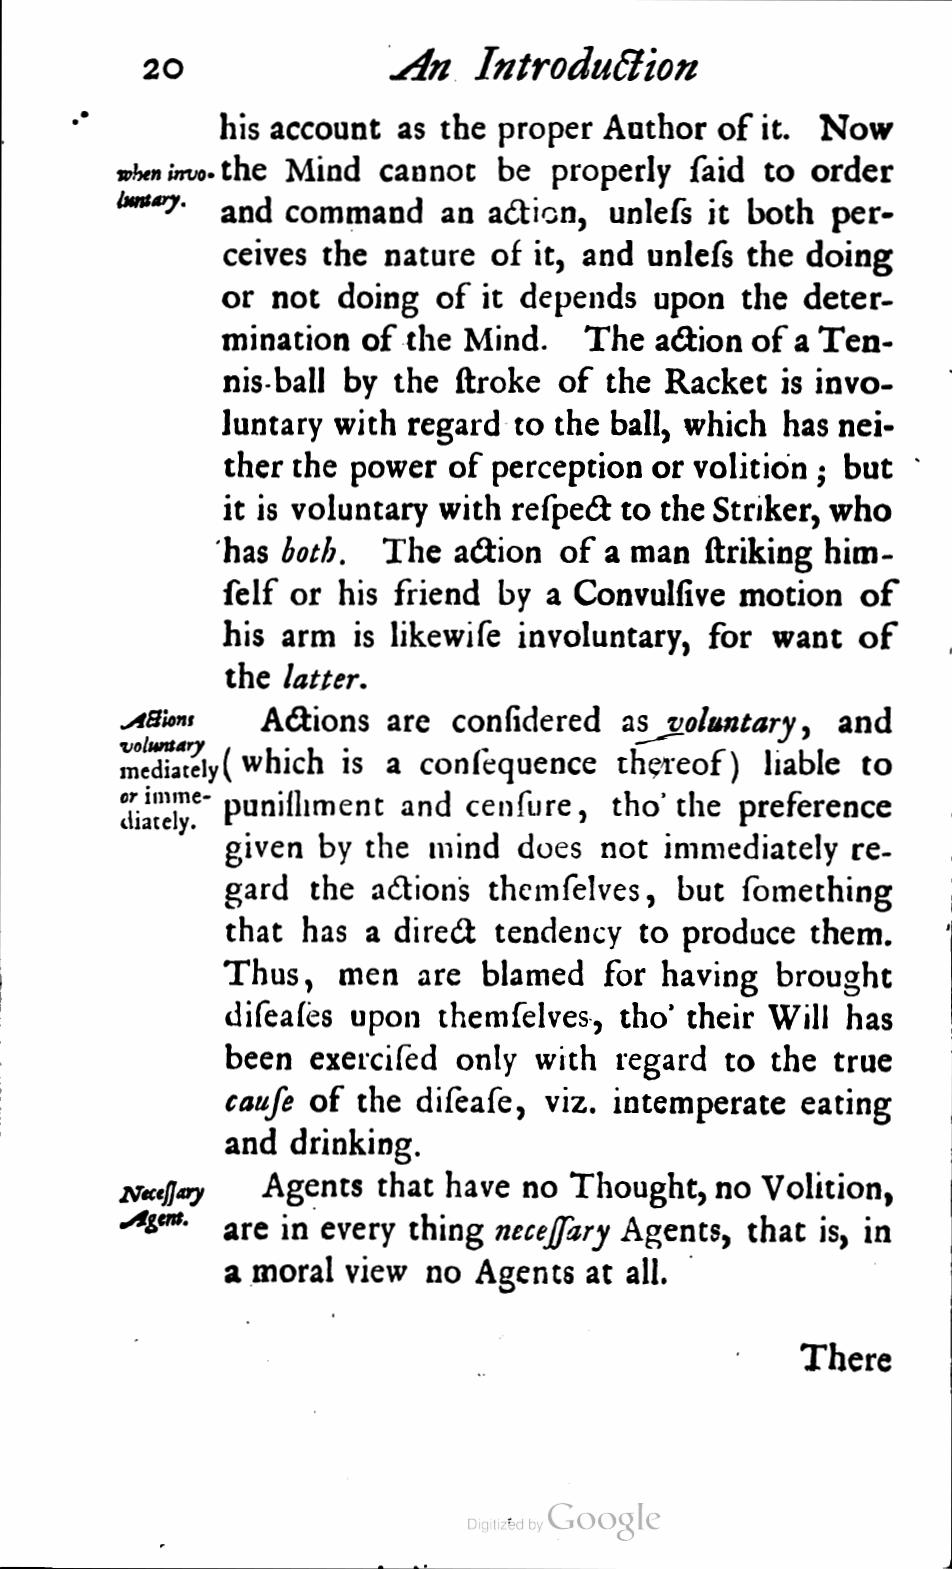bottom_p: (216, 102, 904, 694)
catchword: (798, 1336, 900, 1376)
full_p: (218, 704, 898, 1164), (220, 1166, 900, 1294)
header: (380, 40, 704, 89)
page_num: (140, 48, 188, 84)
print_marg: (115, 704, 220, 836), (114, 160, 218, 219), (118, 1180, 207, 1234)
